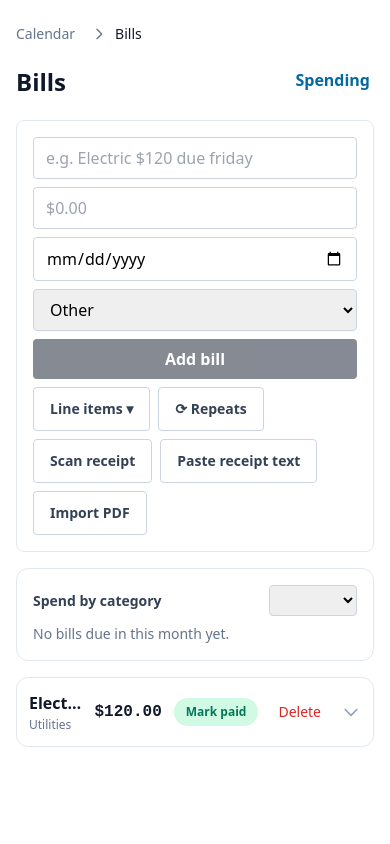
Test: line items editor (#031) › expands to the stored line items
What coordinates should you click on to do the following:
click the button named "Show details for Electric"
I would click on:
 (351, 712)
Its box is [341, 690, 361, 734].
(page scrolled)
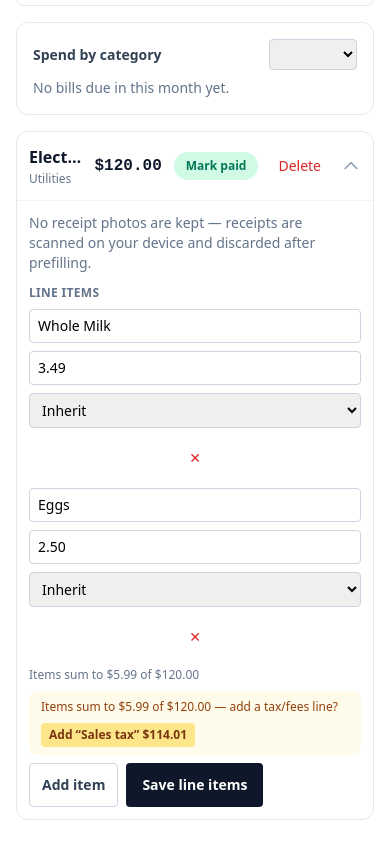
Now the field showing "Whole Milk" is shown, box [29, 309, 361, 343]
Now the field showing "3.49" is shown, box [29, 351, 361, 385]
Now the field showing "Eggs" is shown, box [29, 488, 361, 522]
